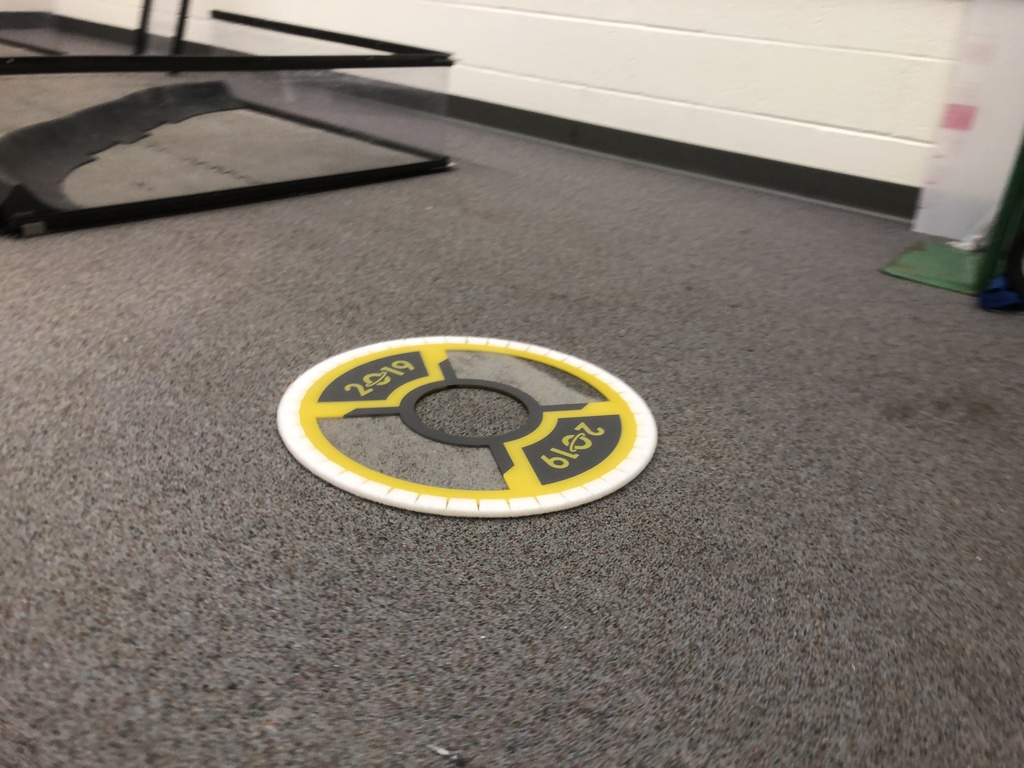hatch_panel: (267, 322, 679, 528)
